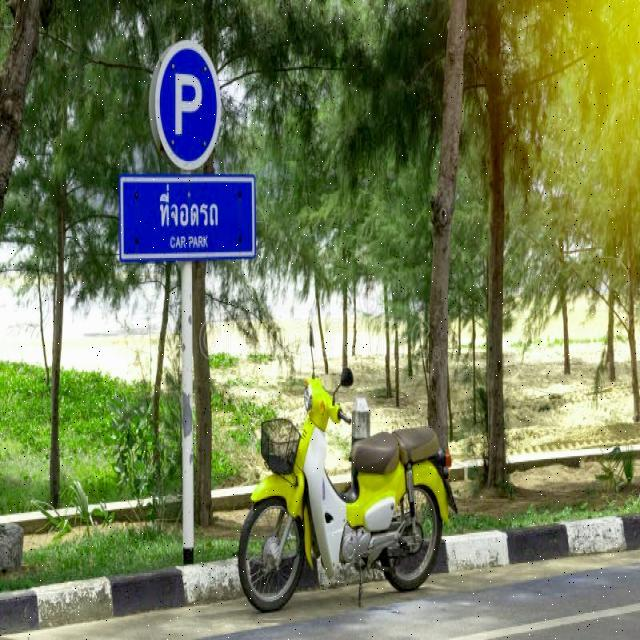Traffic sign: (111, 35, 263, 269)
